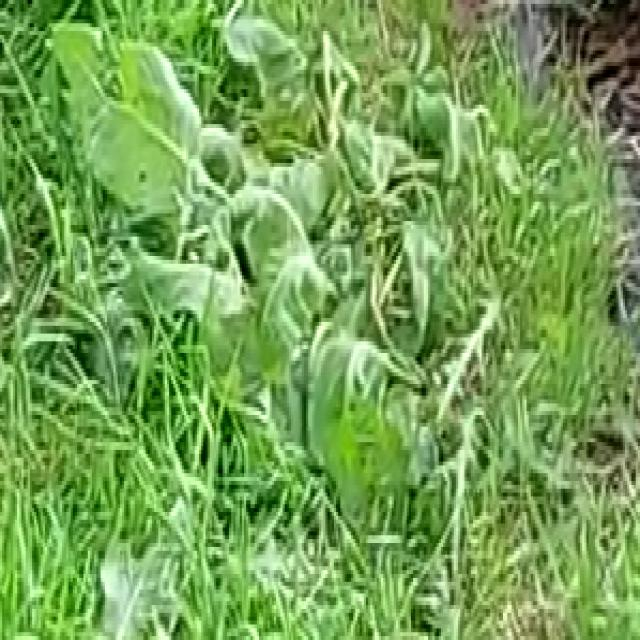organic waste: (45, 0, 338, 411), (238, 31, 458, 508), (62, 461, 209, 640)
